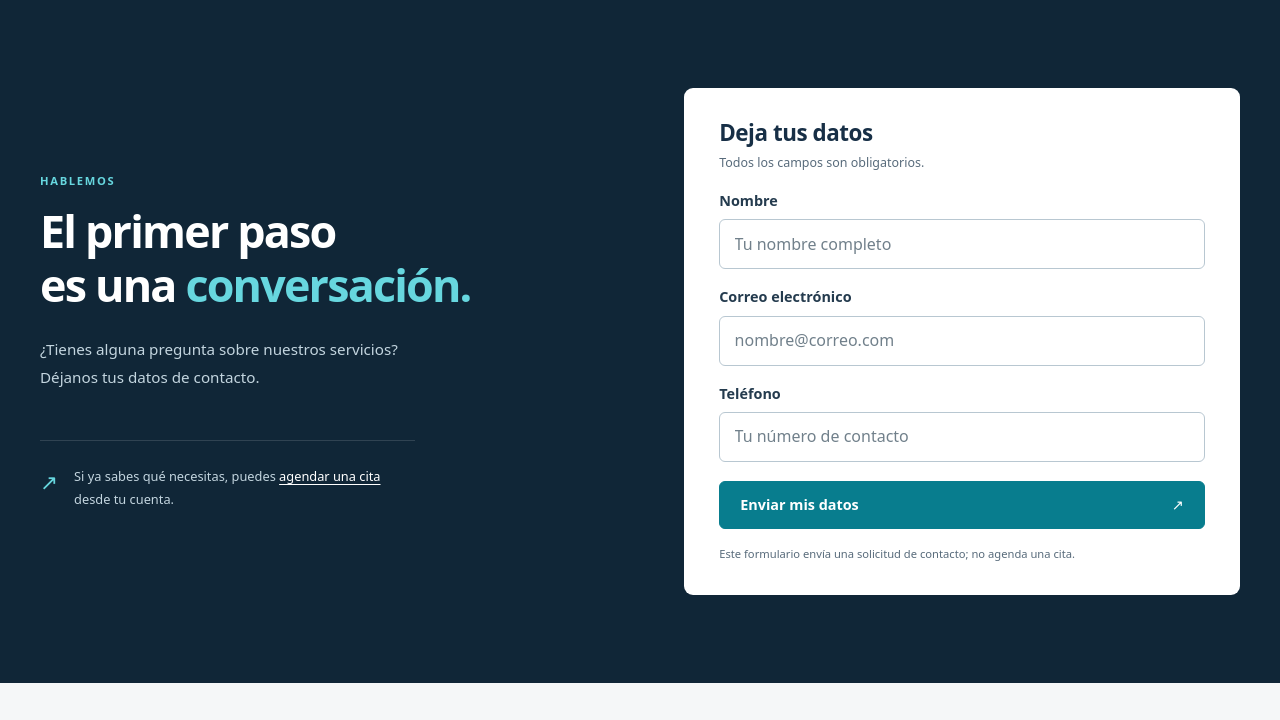
it: Contact form › retains all input after a http error and permits a deliberate retry
This screenshot has width=1280, height=720.
Type "Ana García" into the field labelled "Nombre" at (962, 244), box [719,220,1205,270]
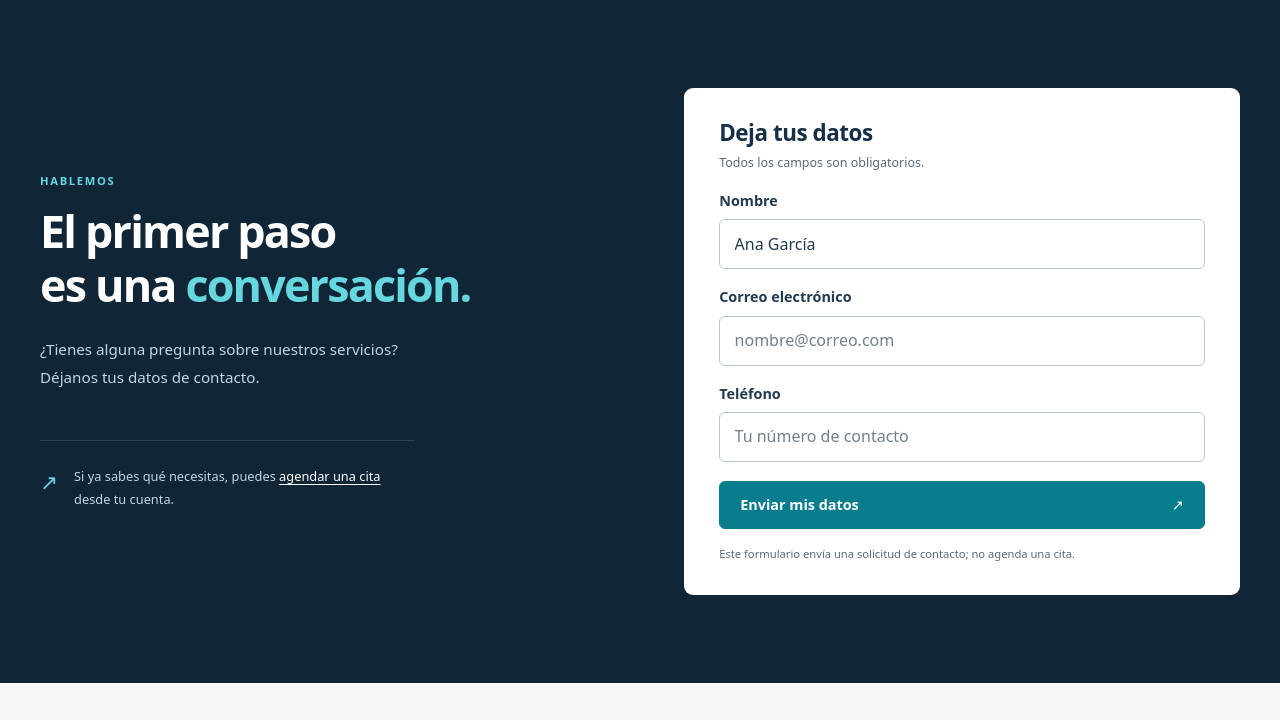
Type "ana@example.com" into the field labelled "Correo electrónico" at (962, 341), box [719,316,1205,366]
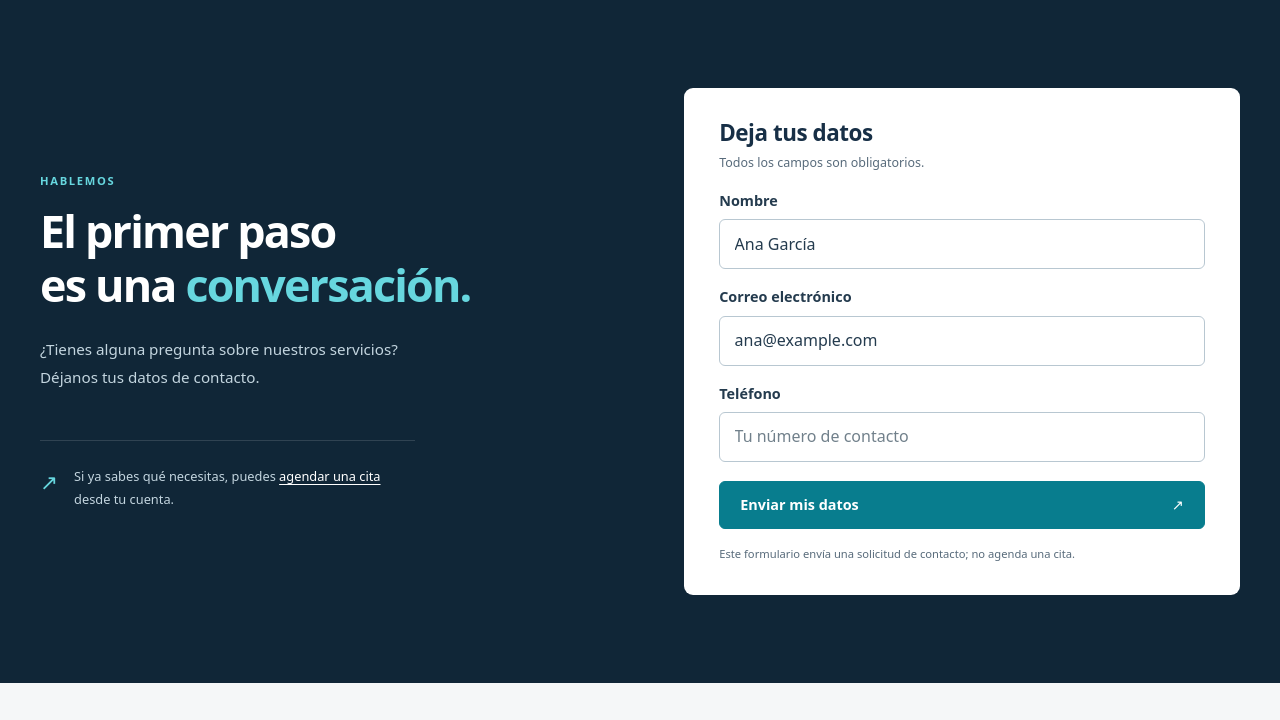
Type "3312345678" into the field labelled "Teléfono" at (962, 437), box [719,412,1205,462]
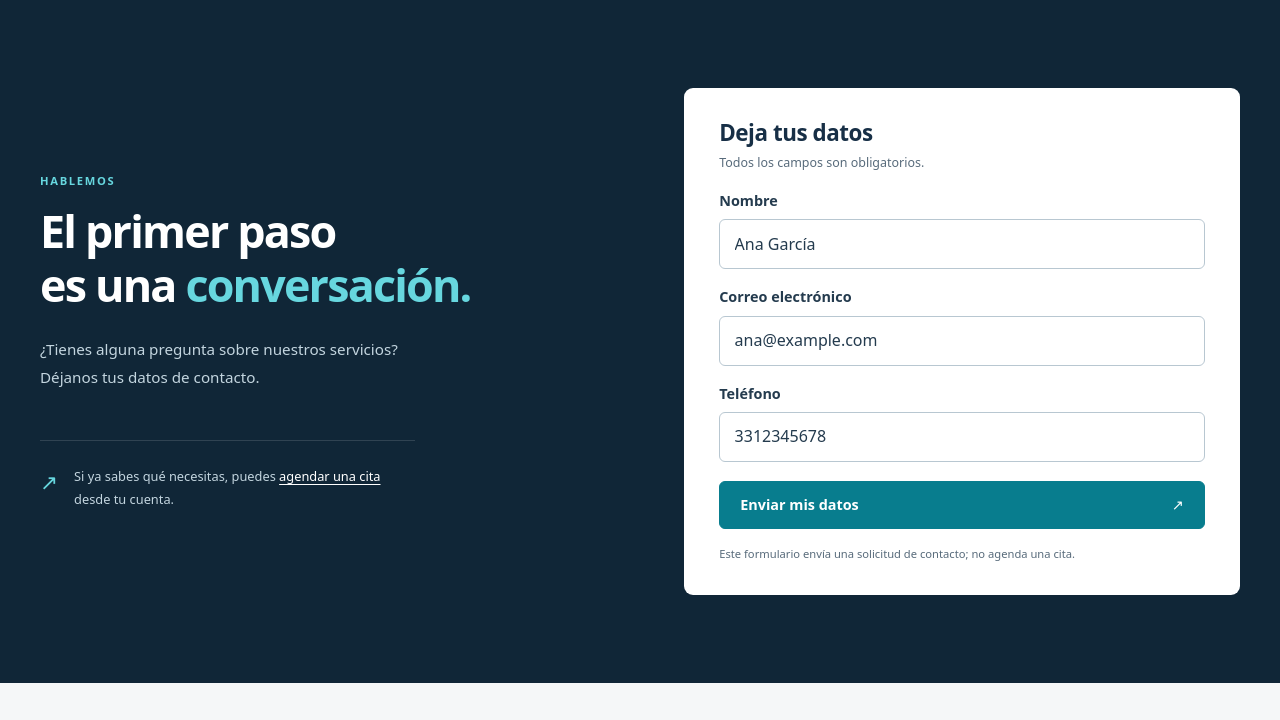
Click the button "Enviar mis datos ↗" at (799, 505), box [719,481,1205,529]
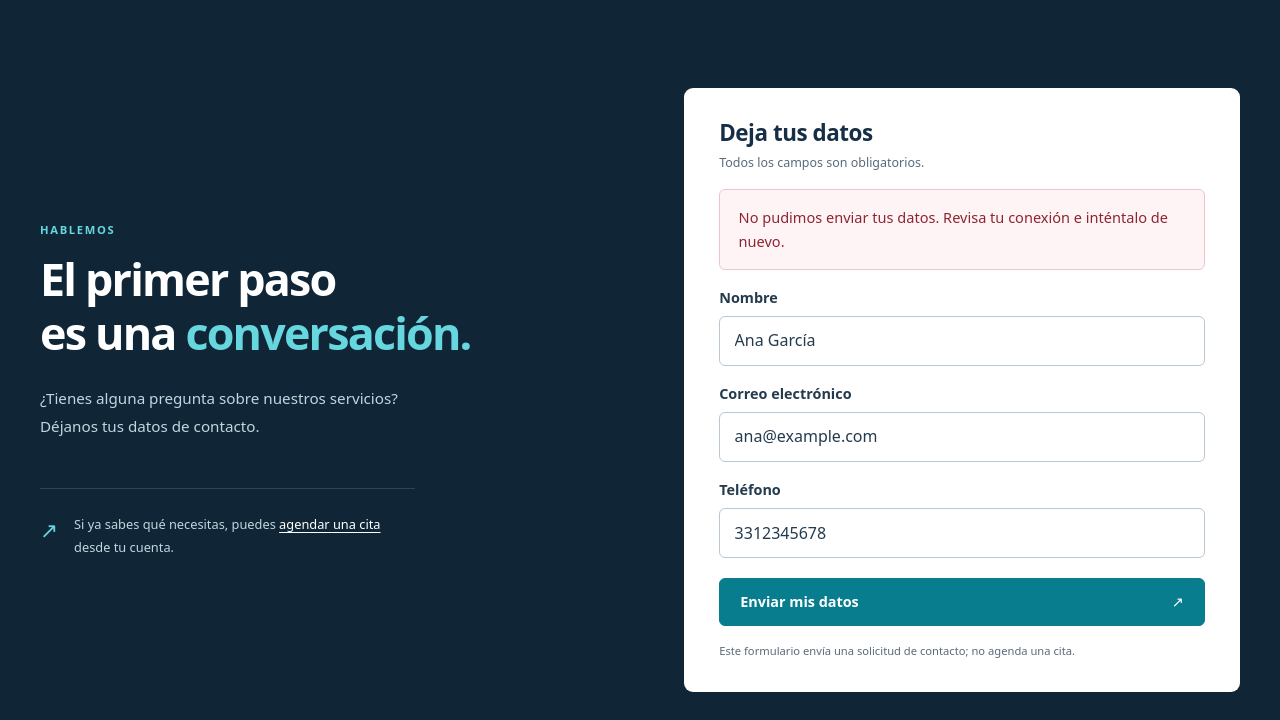
Result: the message shows "No pudimos enviar tus datos." at [739,207,1168,250]
Click the button "Enviar mis datos ↗" at (799, 601), box [719,578,1205,626]
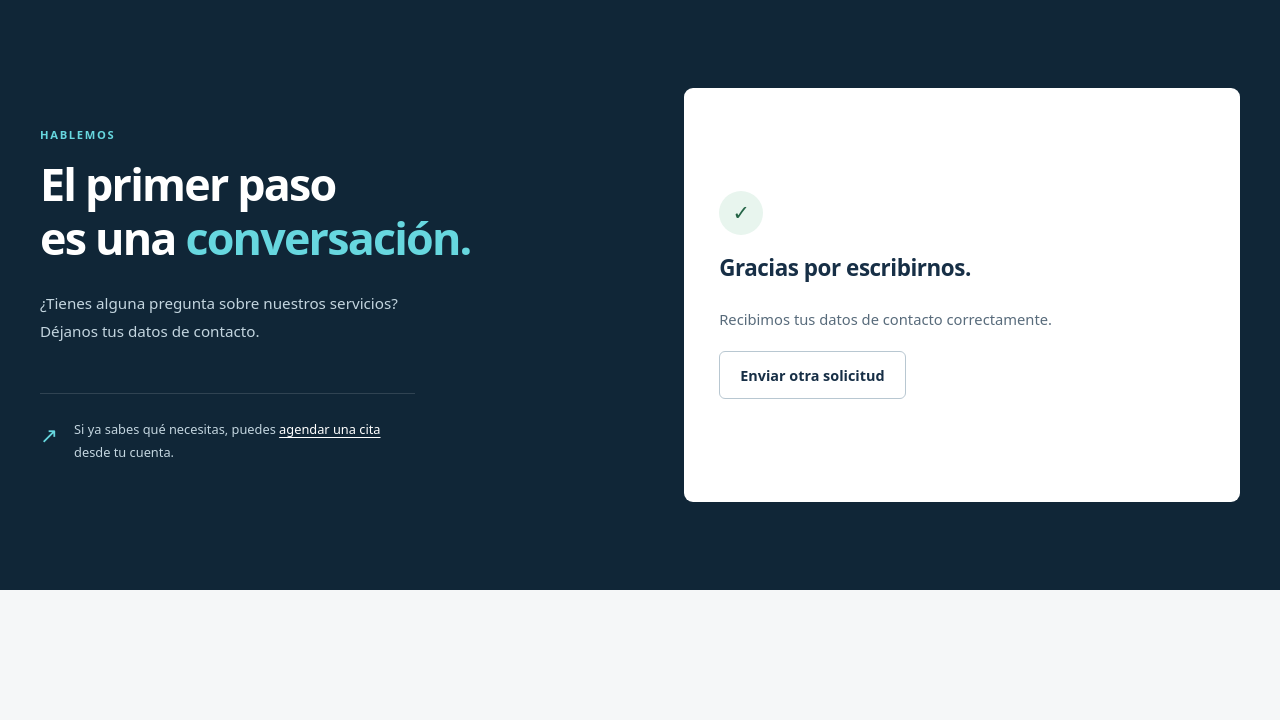
Result: the message shows "Recibimos tus datos" at [719,309,1052,329]
